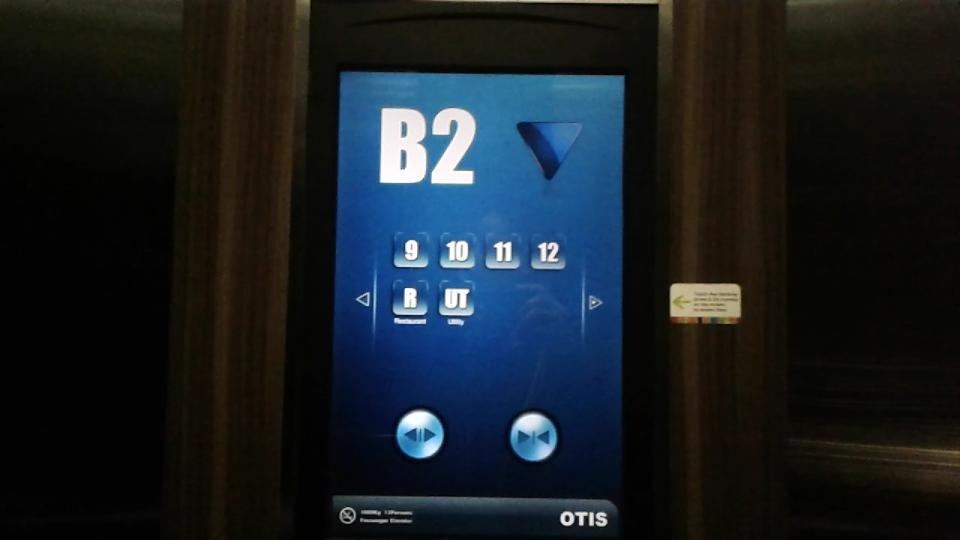10: (436, 230, 477, 272)
11: (482, 230, 523, 272)
12: (526, 229, 567, 271)
9: (390, 228, 431, 270)
R: (389, 276, 430, 318)
UT: (435, 277, 476, 317)
close: (505, 410, 559, 465)
open: (392, 407, 446, 462)
